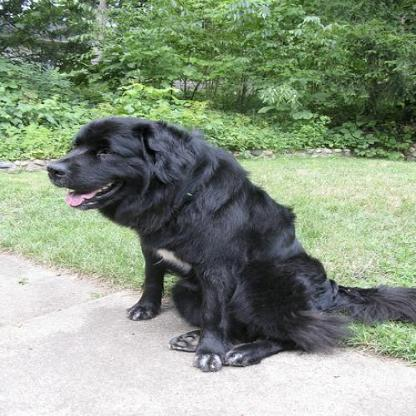Newfoundland: (43, 116, 413, 370)
